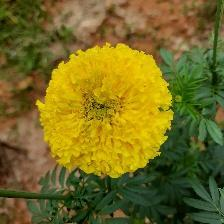marigold: (36, 46, 178, 180)
